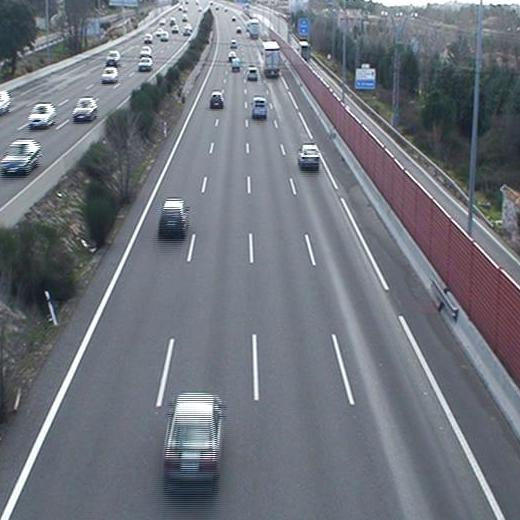car: (161, 390, 225, 492), (158, 198, 189, 237), (294, 143, 322, 170), (209, 92, 226, 109), (245, 66, 260, 81)
truck: (261, 40, 281, 79)
van: (250, 99, 269, 119), (231, 58, 242, 74)
